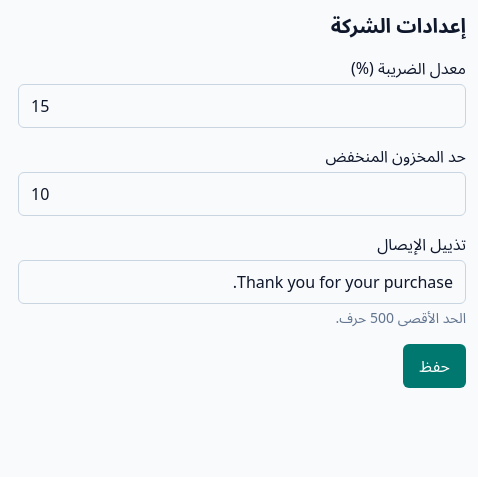
it: SettingsPage › saves changed fields only in Arabic
Expected: the heading "إعدادات الشركة" is shown, [331,12,466,39]
# Change only tax rate
Replace the text in the number field labelled "معدل الضريبة (%)" with "20" at (242, 106), box [18,84,466,128]
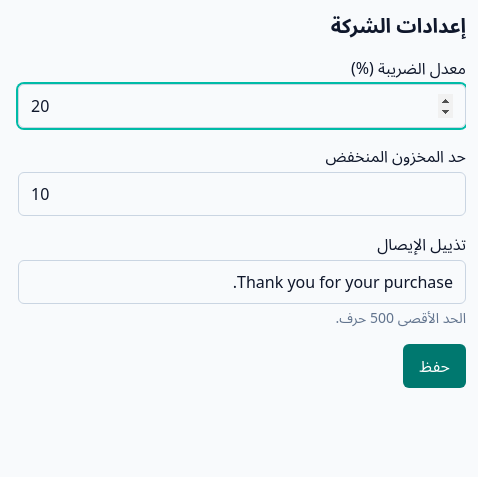
Click the button "حفظ" at (435, 366), box [403,344,466,388]
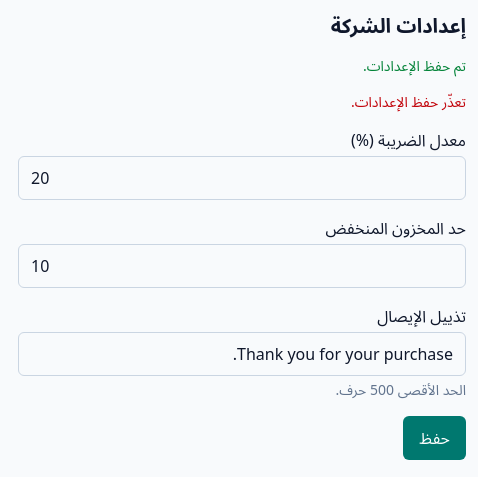
Now the message "تم حفظ الإعدادات." is shown, box [363,56,466,75]
